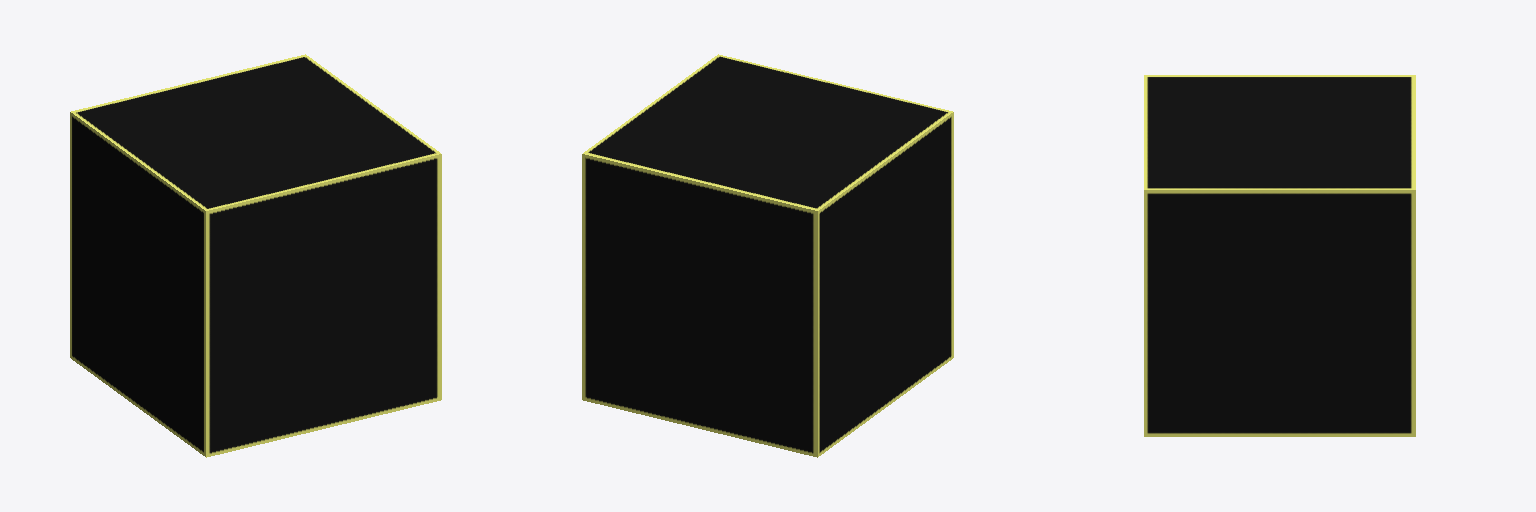
The picture shows the model from 3 angles: view 1: azimuth 30°, elevation 25°; view 2: azimuth 150°, elevation 25°; view 3: azimuth 270°, elevation 25°; orthographic projection.
Visible parts, largest first — view 1: Cube_立方体; view 2: Cube_立方体; view 3: Cube_立方体.
Boxes of the visible parts, box(x1,y1,x2,y2) form: Cube_立方体: box(70, 54, 441, 457); Cube_立方体: box(582, 54, 953, 457); Cube_立方体: box(1144, 75, 1415, 436).
Bounding box in the file's own units: 2 × 2 × 2.
1 materials, 1 textured.